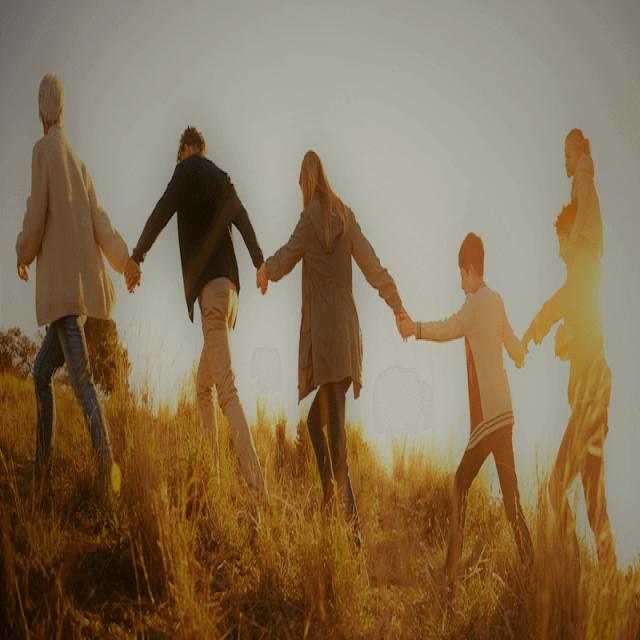adult: (258, 151, 408, 538), (126, 124, 267, 511), (14, 70, 139, 506), (402, 232, 536, 600), (518, 205, 618, 587)
child: (561, 127, 607, 269)
